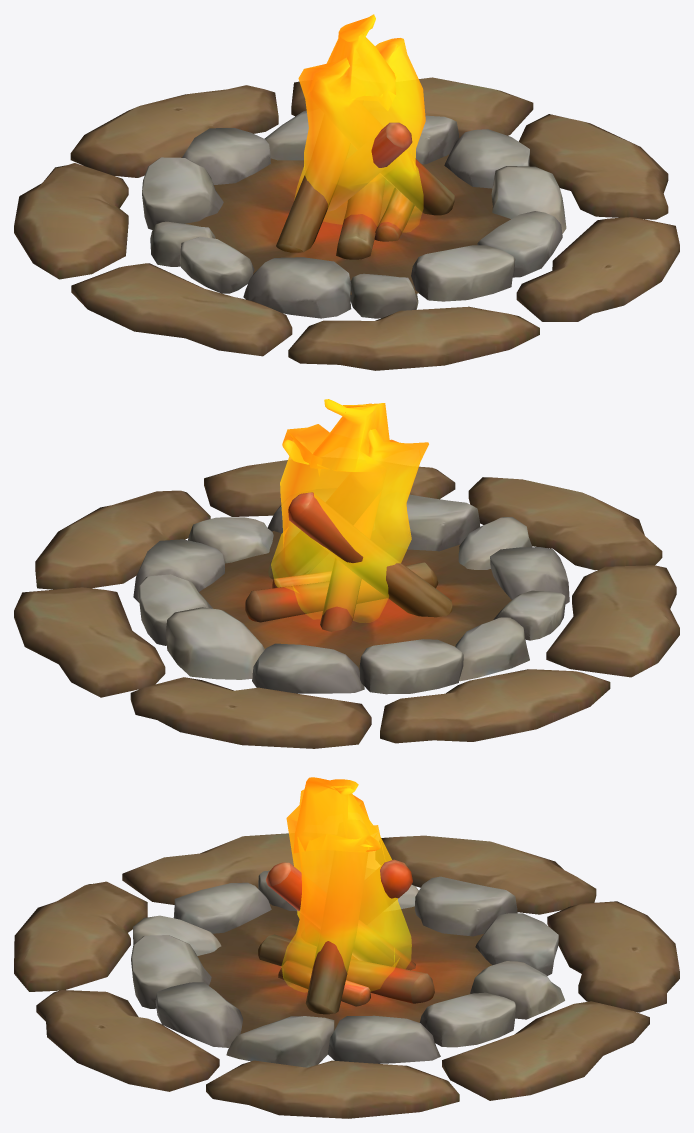
File: campfire.glb
3 views of the same model, one above another, from view 1: azimuth 30°, elevation 25°; view 2: azimuth 150°, elevation 25°; view 3: azimuth 270°, elevation 25° (orthographic).
Visible parts, largest first — view 1: camp_Baked, fire_Baked; view 2: camp_Baked, fire_Baked; view 3: camp_Baked, fire_Baked.
Boxes of the visible parts, left/top/right/bottom form: camp_Baked: left=14, top=77, right=679, bottom=370; fire_Baked: left=295, top=14, right=425, bottom=231; camp_Baked: left=14, top=460, right=679, bottom=748; fire_Baked: left=271, top=399, right=428, bottom=621; camp_Baked: left=14, top=833, right=679, bottom=1118; fire_Baked: left=281, top=777, right=411, bottom=991.
Size of the model in its own units: 2.24 by 0.8185 by 2.27.
Materials: 2 (2 with a texture image).
